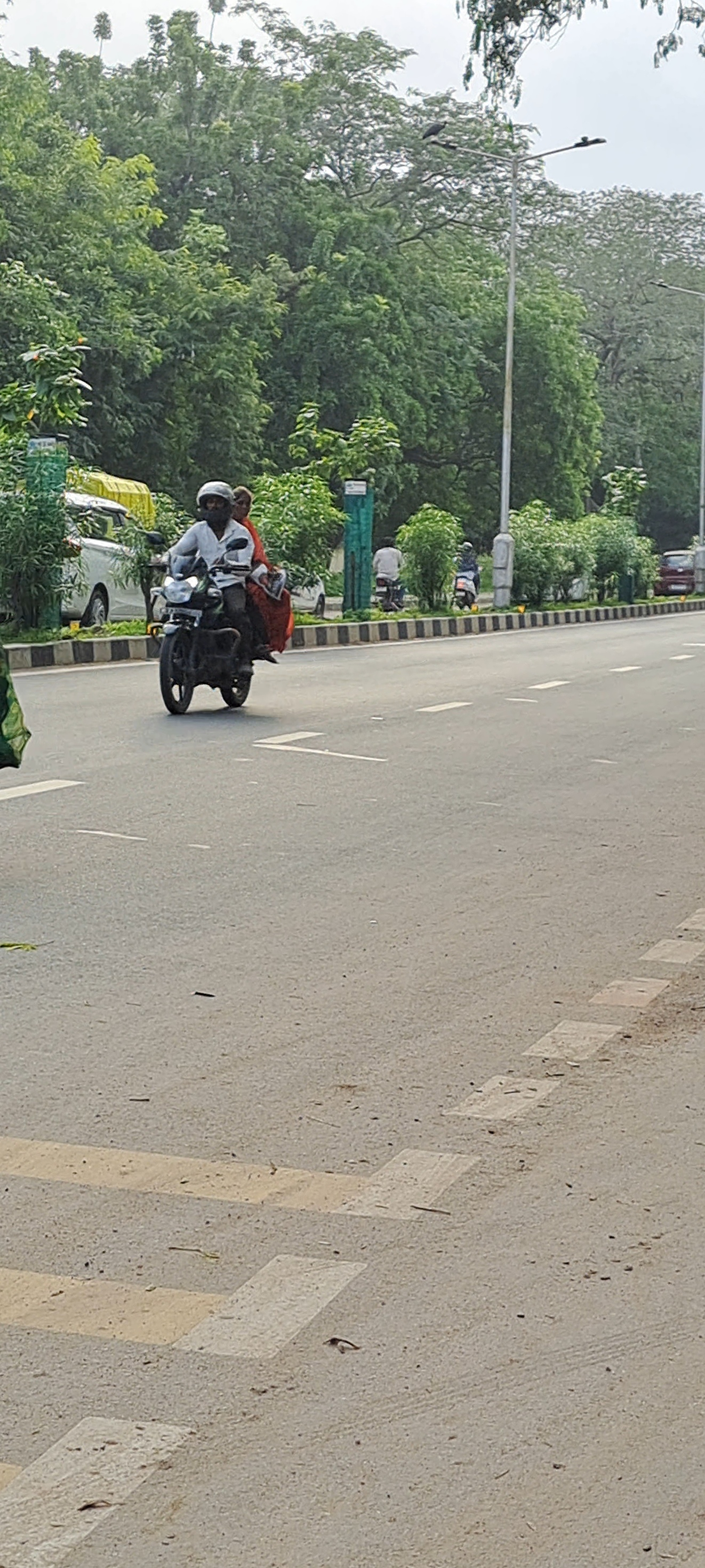BikeWithRider: (145, 475, 301, 722), (368, 529, 410, 617), (447, 539, 485, 613)
Helmet: (192, 476, 238, 530)
NoHelmet: (226, 482, 259, 526)
